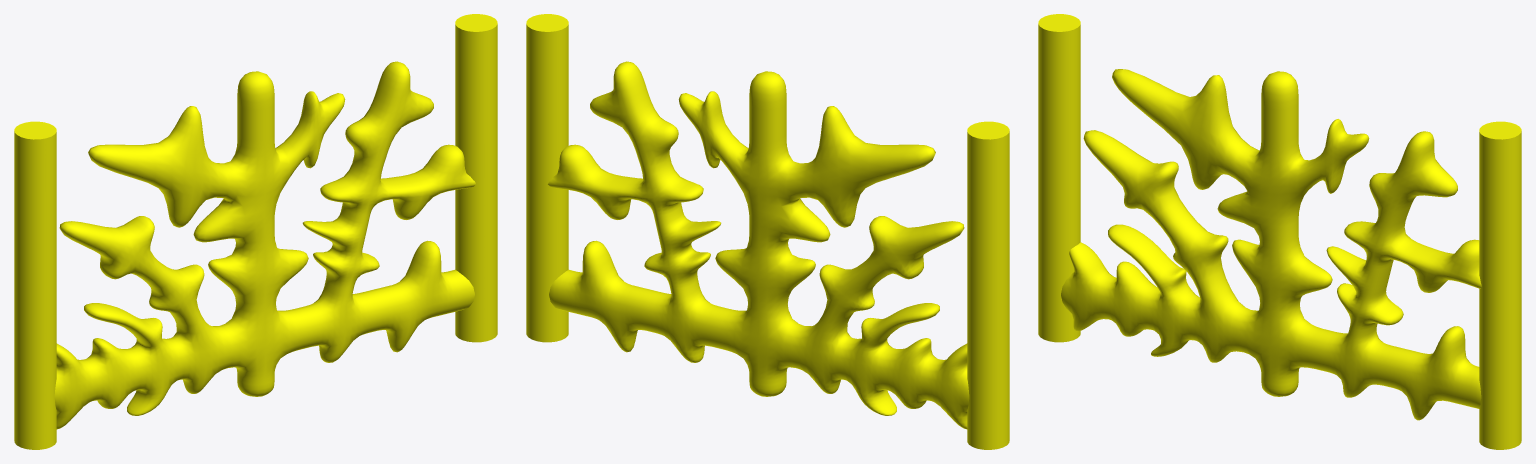
Rendered from Yellow Coral Fence.fbx.
3 views of the same model, side by side, from view 1: azimuth 30°, elevation 25°; view 2: azimuth 150°, elevation 25°; view 3: azimuth 330°, elevation 25° (orthographic).
Parts seen in each view (by area): view 1: Yellow_Coral_fence; view 2: Yellow_Coral_fence; view 3: Yellow_Coral_fence.
Part boxes in pixels (left/top/right/bottom): Yellow_Coral_fence: left=14, top=14, right=497, bottom=449; Yellow_Coral_fence: left=526, top=14, right=1009, bottom=449; Yellow_Coral_fence: left=1038, top=14, right=1521, bottom=449.
Size of the model in its own units: 5.61 by 3.6 by 0.4344.
